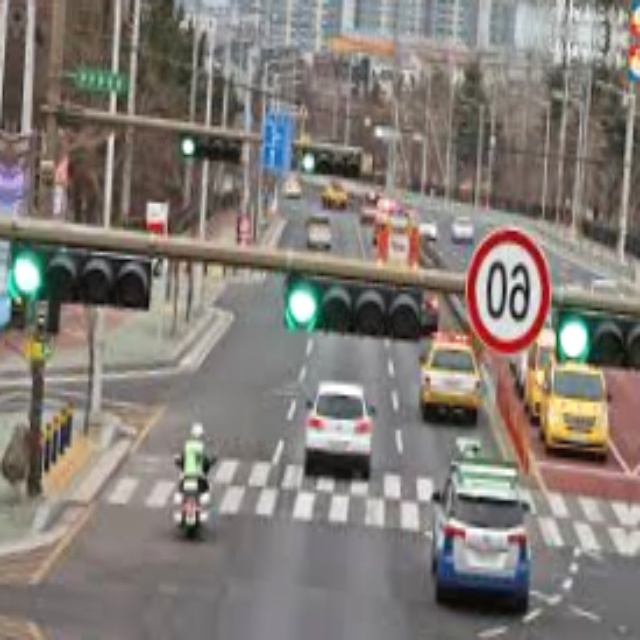green_light: (5, 243, 49, 306), (286, 283, 321, 330), (557, 315, 589, 360), (182, 135, 197, 155), (302, 151, 317, 170)
